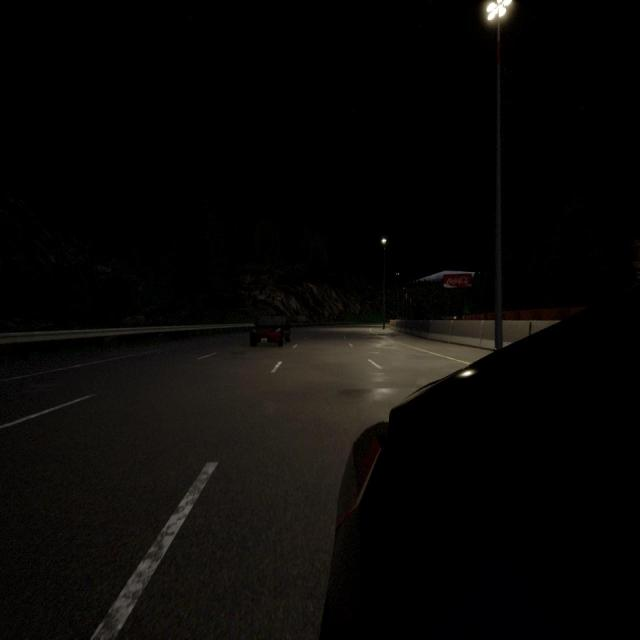Vehicle: (320, 285, 639, 637), (250, 314, 292, 347)
